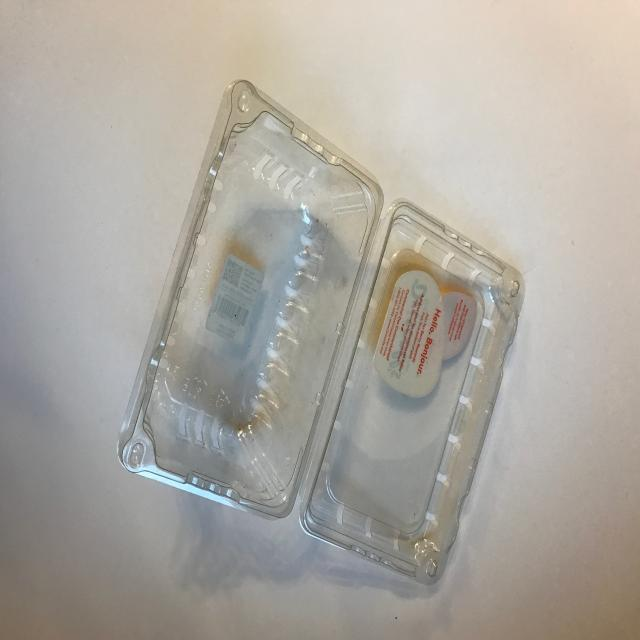plastic: (107, 46, 536, 593)
